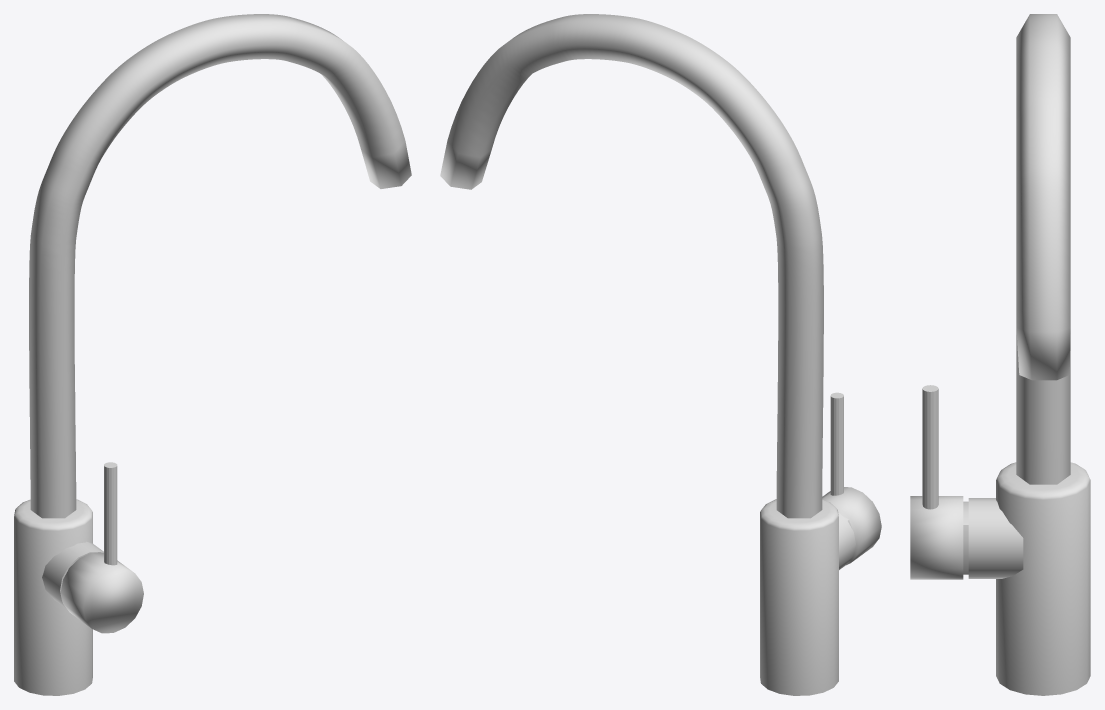
Rendered from faucet.glb.
3 views of the same model, side by side, from view 1: azimuth 30°, elevation 25°; view 2: azimuth 150°, elevation 25°; view 3: azimuth 270°, elevation 25° (orthographic). The views are drawn at different scales.
Visible parts, largest first — view 1: SM_Musluk_0, SM_Musluk_Kulp_1; view 2: SM_Musluk_0, SM_Musluk_Kulp_1; view 3: SM_Musluk_0, SM_Musluk_Kulp_1.
Boxes of the visible parts, x1=… form: SM_Musluk_0: x1=14, y1=14, x2=411, y2=695; SM_Musluk_Kulp_1: x1=61, y1=462, x2=143, y2=633; SM_Musluk_0: x1=440, y1=14, x2=855, y2=695; SM_Musluk_Kulp_1: x1=822, y1=392, x2=881, y2=565; SM_Musluk_0: x1=963, y1=14, x2=1090, y2=695; SM_Musluk_Kulp_1: x1=910, y1=385, x2=963, y2=579.
Size of the model in its own units: 0.6911 by 1.05 by 0.2342.
1 material, 1 textured.
